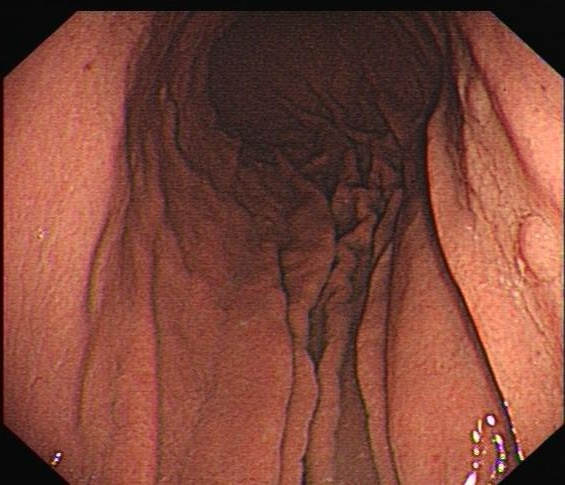Polyp: (505, 209, 561, 284)
